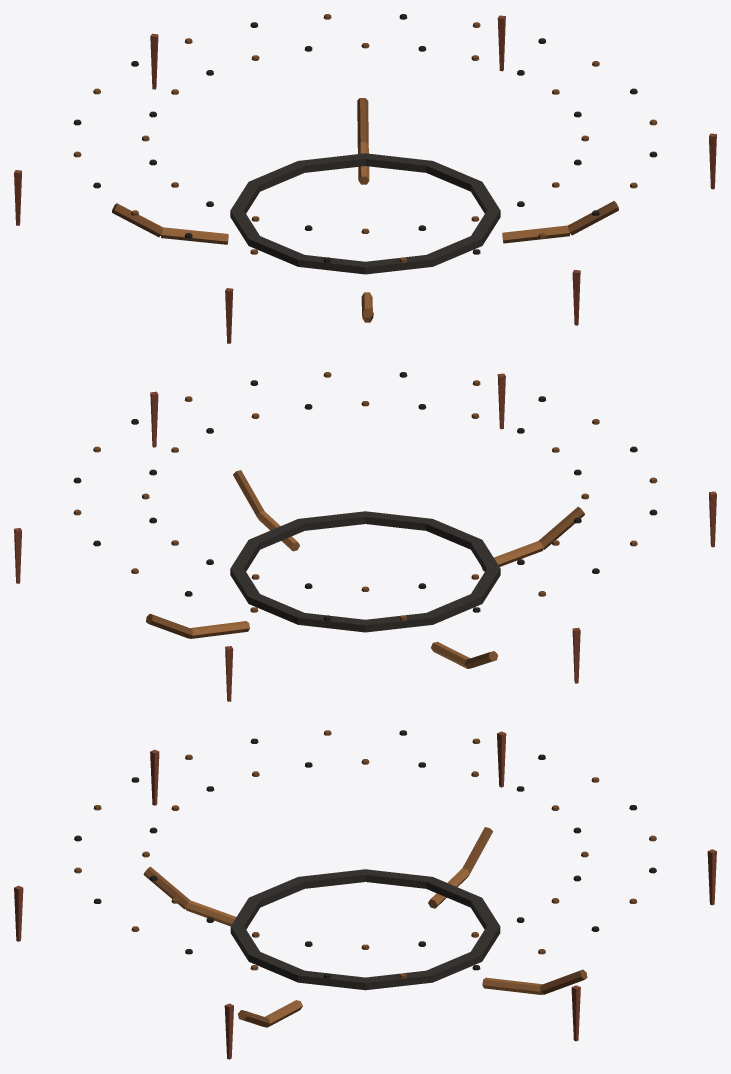
The model's file is lift_platform_detail2.glb.
3 renders of one model, top to bottom at view 1: azimuth 30°, elevation 25°; view 2: azimuth 150°, elevation 25°; view 3: azimuth 270°, elevation 25°, orthographic.
Visible parts, largest first — view 1: lift_platform_detail2.001; view 2: lift_platform_detail2.001; view 3: lift_platform_detail2.001.
Part boxes in pixels (x1=…): lift_platform_detail2.001: x1=14, y1=14, x2=716, y2=343; lift_platform_detail2.001: x1=14, y1=372, x2=716, y2=701; lift_platform_detail2.001: x1=14, y1=730, x2=716, y2=1059.
Size of the model in its own units: 8.34 by 1.49 by 8.97.
